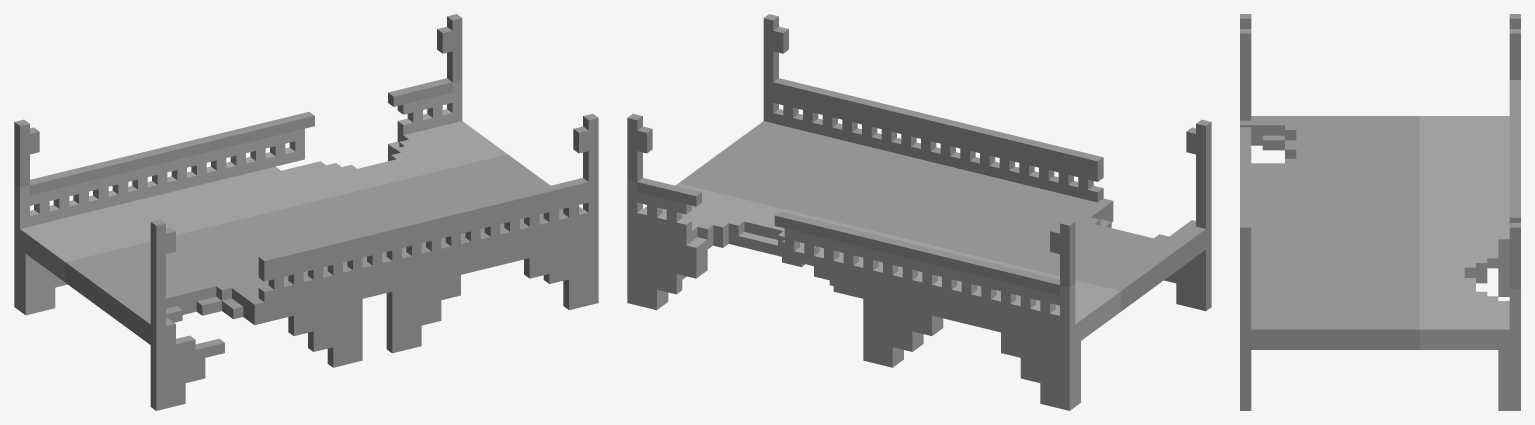
Rendered from church6-20.obj.
The picture shows the model from 3 angles, left to right: view 1: azimuth 30°, elevation 25°; view 2: azimuth 150°, elevation 25°; view 3: azimuth 270°, elevation 25°; orthographic projection.
Parts seen in each view (by area): view 1: church6-20; view 2: church6-20; view 3: church6-20.
Boxes of the visible parts, x1,y1,x2,y2 form: church6-20: [14, 14, 598, 410]; church6-20: [627, 14, 1211, 410]; church6-20: [1240, 14, 1520, 410].
Bounding box in the file's own units: 45 × 18 × 25.
1 material, 1 textured.
